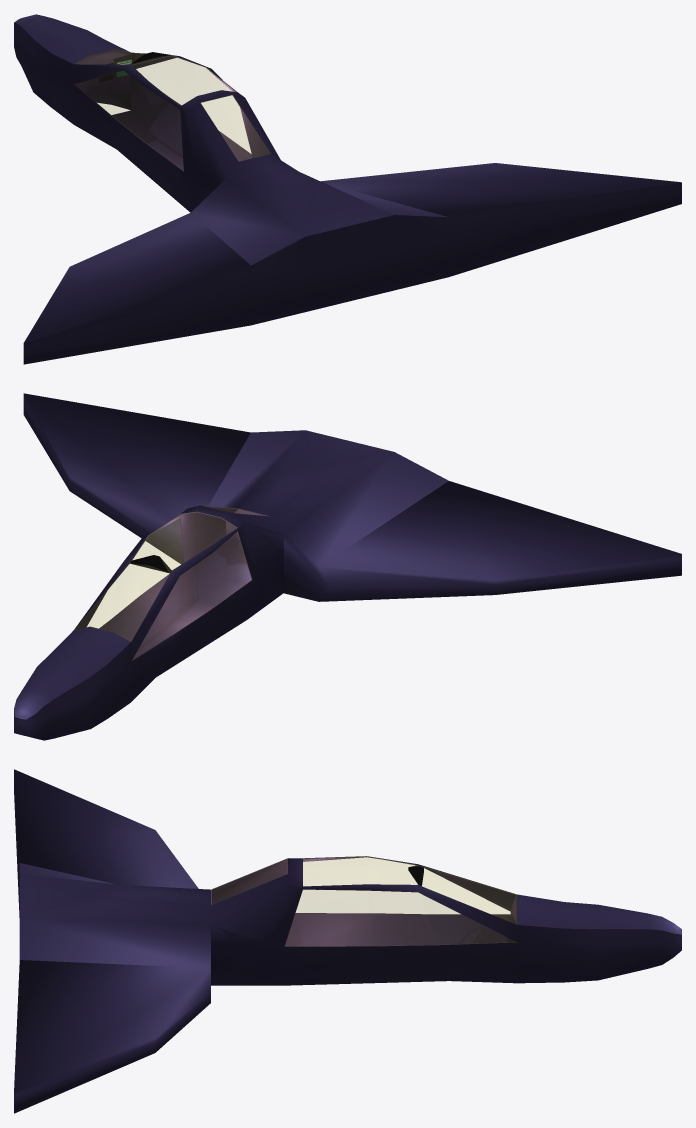
Rendered from ship.glb.
The picture shows the model from 3 angles, top to bottom: view 1: azimuth 30°, elevation 25°; view 2: azimuth 150°, elevation 25°; view 3: azimuth 270°, elevation 25°; orthographic projection.
Visible parts, largest first — view 1: Ship; view 2: Ship; view 3: Ship.
Boxes of the visible parts, bbox=[...] form: Ship: bbox=[14, 14, 681, 364]; Ship: bbox=[14, 393, 681, 740]; Ship: bbox=[14, 769, 681, 1113].
Size of the model in its own units: 6.33 by 0.9746 by 5.54.
Materials: 4 (2 with a texture image).
